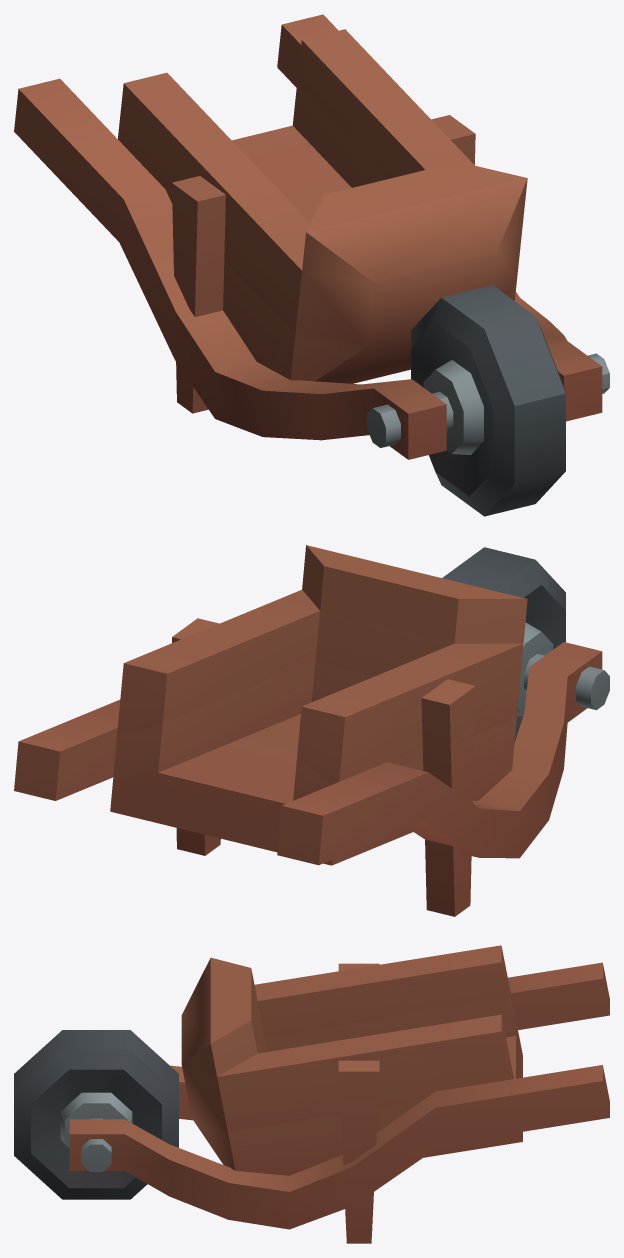
The model's file is kay-carrinho-mao.gltf.
The picture shows the model from 3 angles, top to bottom: view 1: azimuth 30°, elevation 25°; view 2: azimuth 150°, elevation 25°; view 3: azimuth 270°, elevation 25°; orthographic projection. The views are drawn at different scales.
Visible parts, largest first — view 1: wheelbarrow; view 2: wheelbarrow; view 3: wheelbarrow.
Part boxes in pixels (x1,y1,x2,y2): wheelbarrow: (14, 14, 609, 516); wheelbarrow: (14, 545, 609, 916); wheelbarrow: (14, 945, 609, 1243).
Size of the model in its own units: 1.19 by 0.9421 by 2.53.
1 material, 1 textured.
